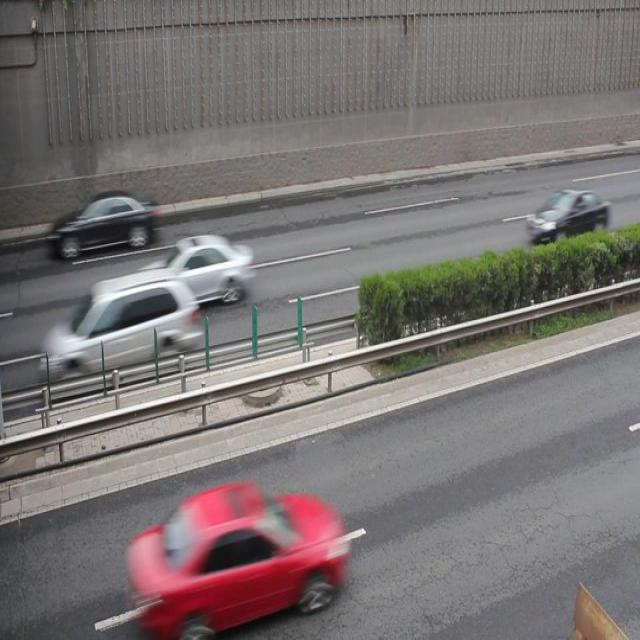car: (128, 477, 348, 640), (42, 267, 198, 378), (138, 232, 254, 305), (52, 188, 157, 260), (526, 186, 609, 244)
